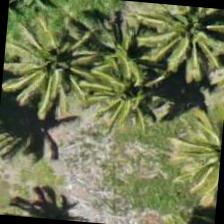Kelapa_Sawit: (3, 15, 101, 114), (85, 42, 183, 140), (139, 2, 223, 81)
